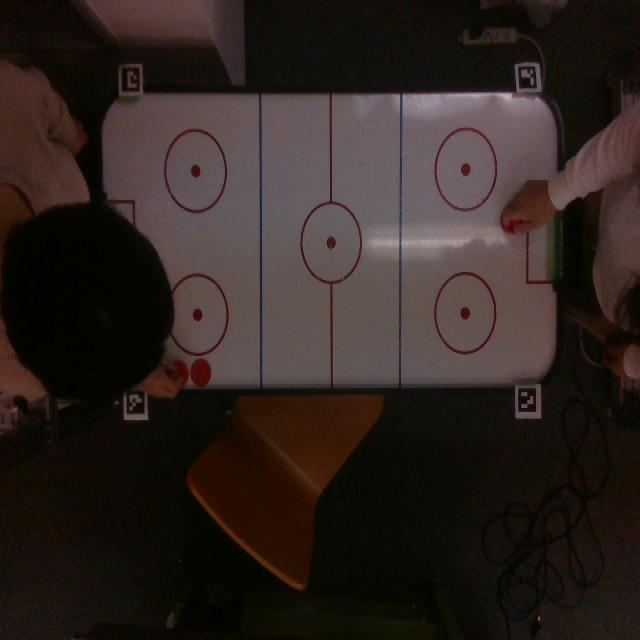puck: (190, 358, 212, 385)
